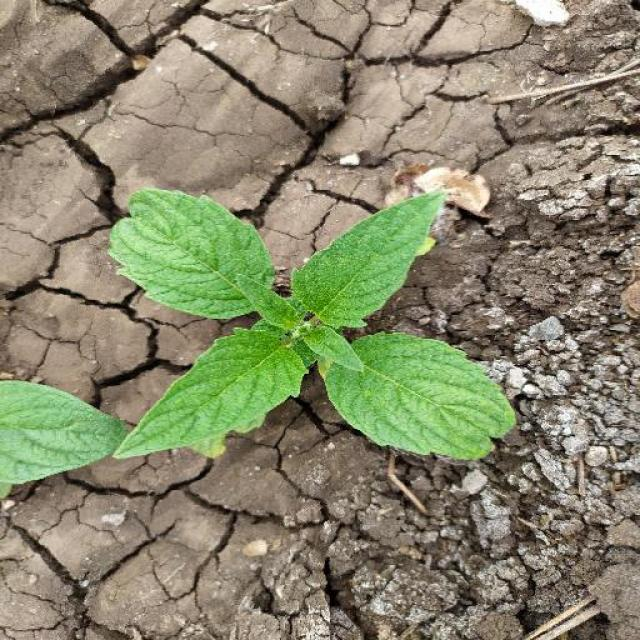crop: (89, 135, 528, 540)
